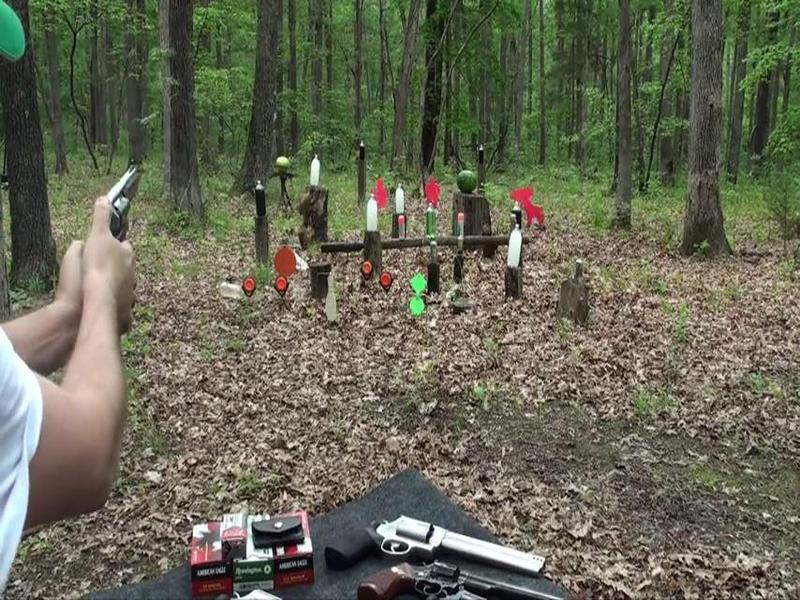Revolver: (70, 153, 158, 270)
